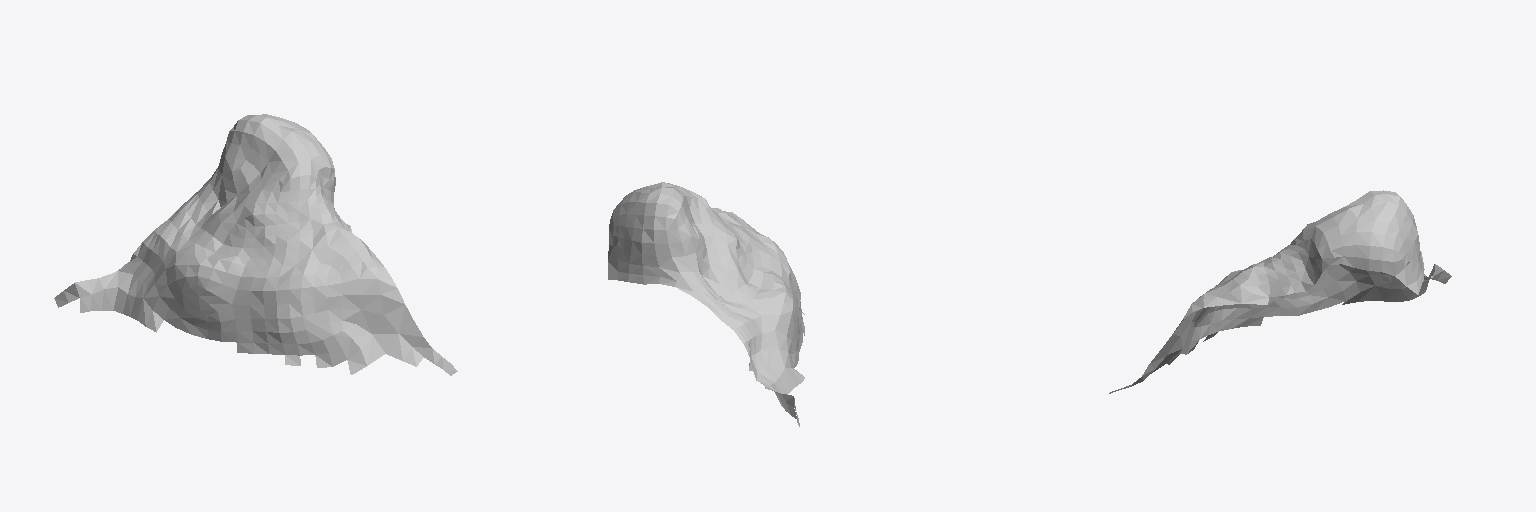
File: texture mountain left.obj
The picture shows the model from 3 angles: view 1: azimuth 30°, elevation 25°; view 2: azimuth 150°, elevation 25°; view 3: azimuth 270°, elevation 25°; orthographic projection.
Visible parts, largest first — view 1: polySurface11 polySurface10 polySurface8 polySurface7 mountain_m; view 2: polySurface11 polySurface10 polySurface8 polySurface7 mountain_m; view 3: polySurface11 polySurface10 polySurface8 polySurface7 mountain_m.
Part boxes in pixels (x1,y1,x2,y2): polySurface11 polySurface10 polySurface8 polySurface7 mountain_m: (54,114,457,375); polySurface11 polySurface10 polySurface8 polySurface7 mountain_m: (608,182,804,426); polySurface11 polySurface10 polySurface8 polySurface7 mountain_m: (1109,190,1451,393).
Bounding box in the file's own units: 34.9 × 25.75 × 44.99.